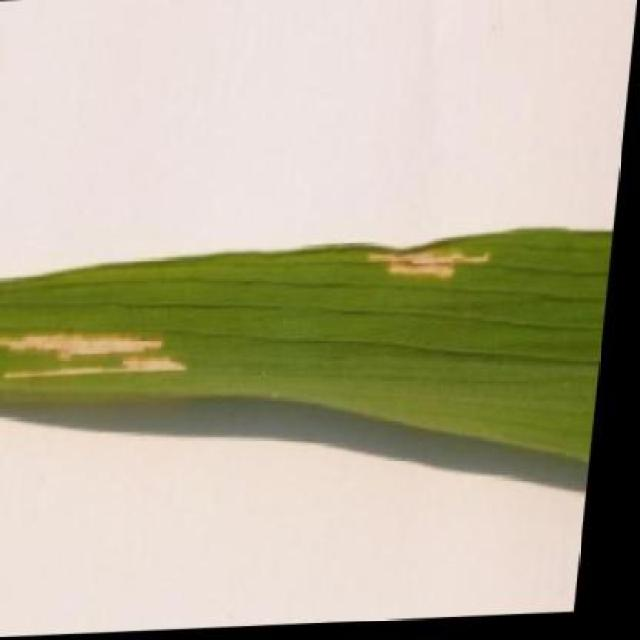Brown_Spot: (0, 222, 620, 490)
